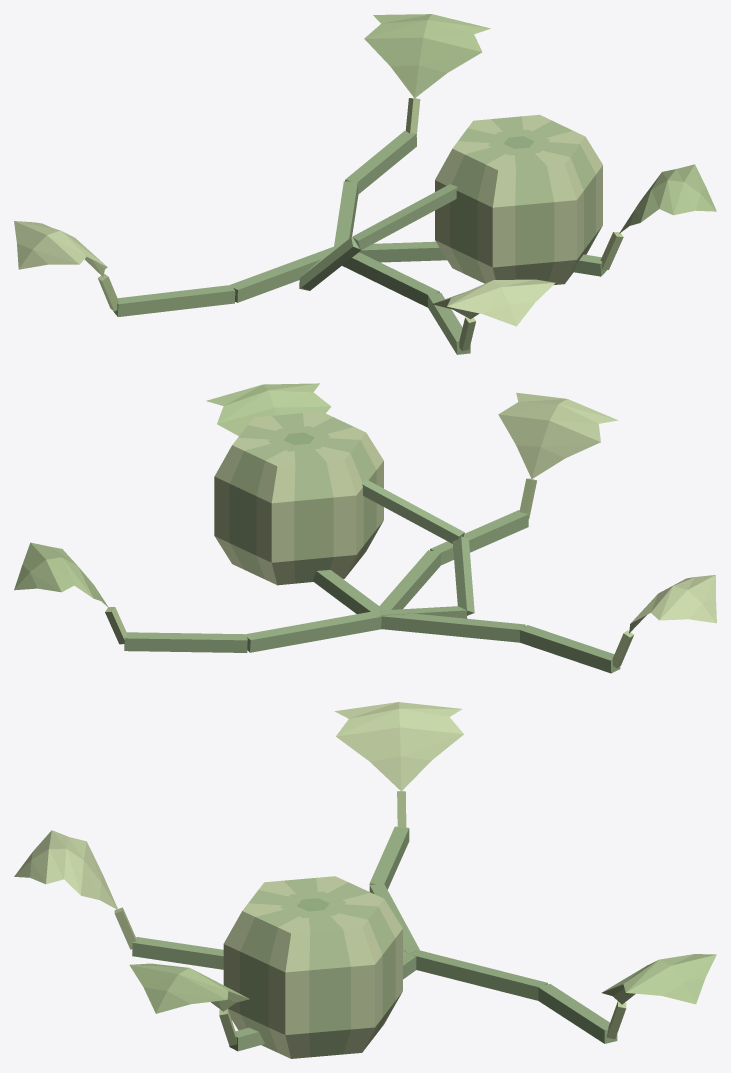
File: crafted-crop-melon-2.glb
The picture shows the model from 3 angles, top to bottom: view 1: azimuth 30°, elevation 25°; view 2: azimuth 150°, elevation 25°; view 3: azimuth 270°, elevation 25°; orthographic projection. The views are drawn at different scales.
Visible parts, largest first — view 1: fruit-skin, fruit-skin-1, vine-leaf-2, vine-leaf-3, vine-leaf, vine-leaf-1, vine-1-1, fruit-attachment-2, vine-0-3, vine-0-1, vine-1-2, vine-0 (+3 smaller); view 2: fruit-skin, fruit-skin-1, vine-leaf-3, vine-leaf, vine-leaf-2, vine-0-2, vine-leaf-1, vine-0-1, vine-1-2, vine-1-1, fruit-attachment-2, vine-1-3 (+4 smaller); view 3: fruit-skin, fruit-skin-1, vine-leaf-1, vine-leaf-3, vine-leaf, vine-leaf-2, vine-0-2, vine-1-3, vine-1-2, vine-1-1, vine-0-1.
Boxes of the visible parts, x1=… form: fruit-skin: x1=435, y1=114, x2=602, y2=284; fruit-skin-1: x1=450, y1=116, x2=595, y2=283; vine-leaf-2: x1=364, y1=14, x2=490, y2=98; vine-leaf-3: x1=432, y1=279, x2=555, y2=326; vine-leaf: x1=619, y1=164, x2=716, y2=233; vine-leaf-1: x1=14, y1=221, x2=107, y2=276; vine-1-1: x1=113, y1=285, x2=235, y2=316; fruit-attachment-2: x1=352, y1=184, x2=457, y2=250; vine-0-3: x1=342, y1=252, x2=439, y2=307; vine-0-1: x1=228, y1=245, x2=338, y2=302; vine-1-2: x1=345, y1=131, x2=416, y2=194; vine-0: x1=359, y1=241, x2=446, y2=262; fruit-skin: x1=214, y1=411, x2=383, y2=585; fruit-skin-1: x1=229, y1=413, x2=376, y2=583; vine-leaf-3: x1=498, y1=392, x2=618, y2=478; vine-leaf: x1=206, y1=383, x2=331, y2=435; vine-leaf-2: x1=14, y1=542, x2=109, y2=608; vine-0-2: x1=244, y1=610, x2=381, y2=652; vine-leaf-1: x1=629, y1=575, x2=716, y2=633; vine-0-1: x1=379, y1=613, x2=525, y2=642; vine-1-2: x1=124, y1=632, x2=247, y2=652; vine-1-1: x1=519, y1=625, x2=620, y2=673; fruit-attachment-2: x1=362, y1=479, x2=464, y2=543; vine-1-3: x1=430, y1=510, x2=528, y2=565; fruit-skin: x1=223, y1=876, x2=402, y2=1058; fruit-skin-1: x1=240, y1=878, x2=395, y2=1057; vine-leaf-1: x1=335, y1=702, x2=463, y2=791; vine-leaf-3: x1=14, y1=830, x2=118, y2=910; vine-leaf: x1=129, y1=963, x2=249, y2=1013; vine-leaf-2: x1=601, y1=954, x2=716, y2=1004; vine-0-2: x1=410, y1=950, x2=547, y2=1000; vine-1-3: x1=132, y1=937, x2=223, y2=969; vine-1-2: x1=538, y1=984, x2=617, y2=1043; vine-1-1: x1=369, y1=826, x2=409, y2=889; vine-0-1: x1=369, y1=883, x2=420, y2=952.
Size of the model in its own units: 0.8247 by 0.1612 by 0.8046.
